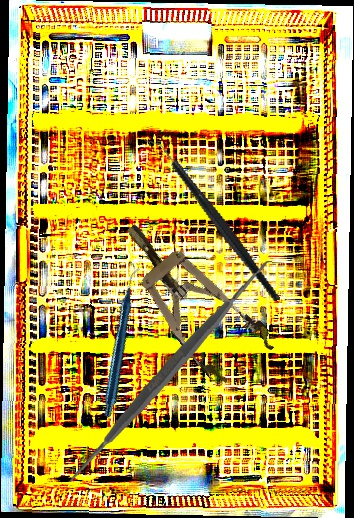Chopper: (142, 114, 281, 325)
Handpiece: (47, 267, 199, 419)
Spatula Surgical: (55, 254, 284, 489)
Speculum: (102, 202, 280, 392)
